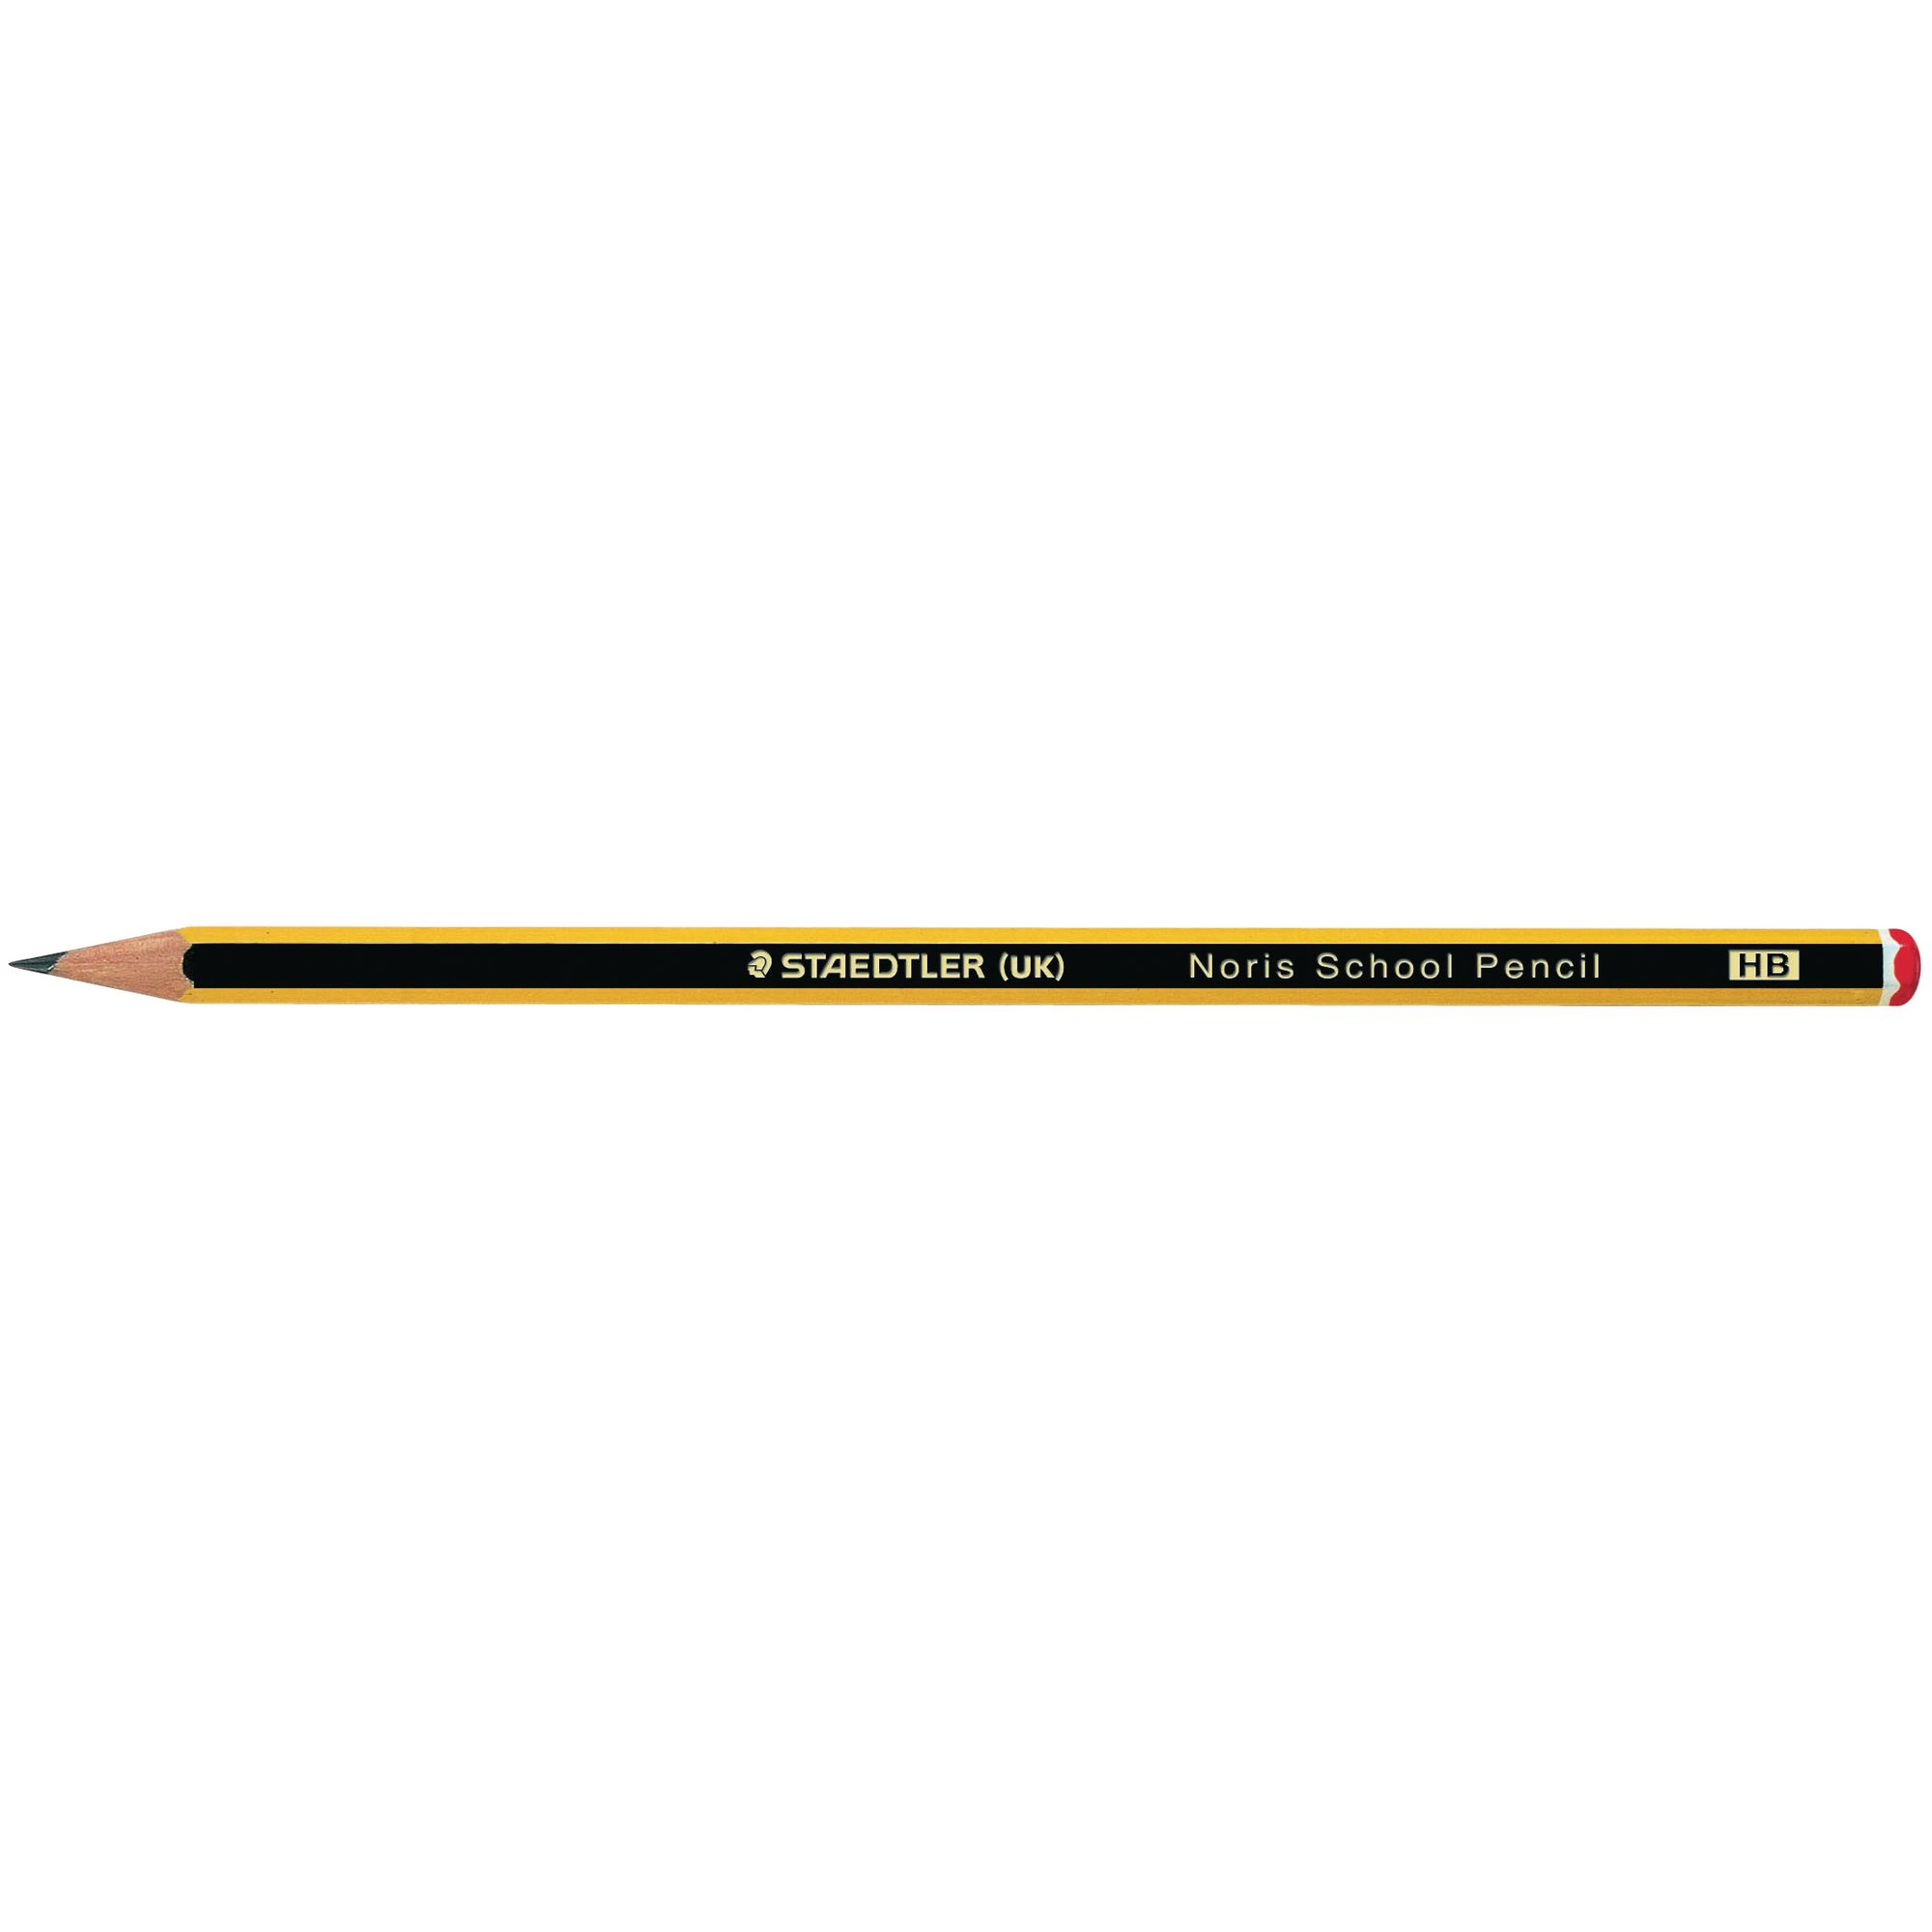pencil: (2, 819, 1932, 1076)
